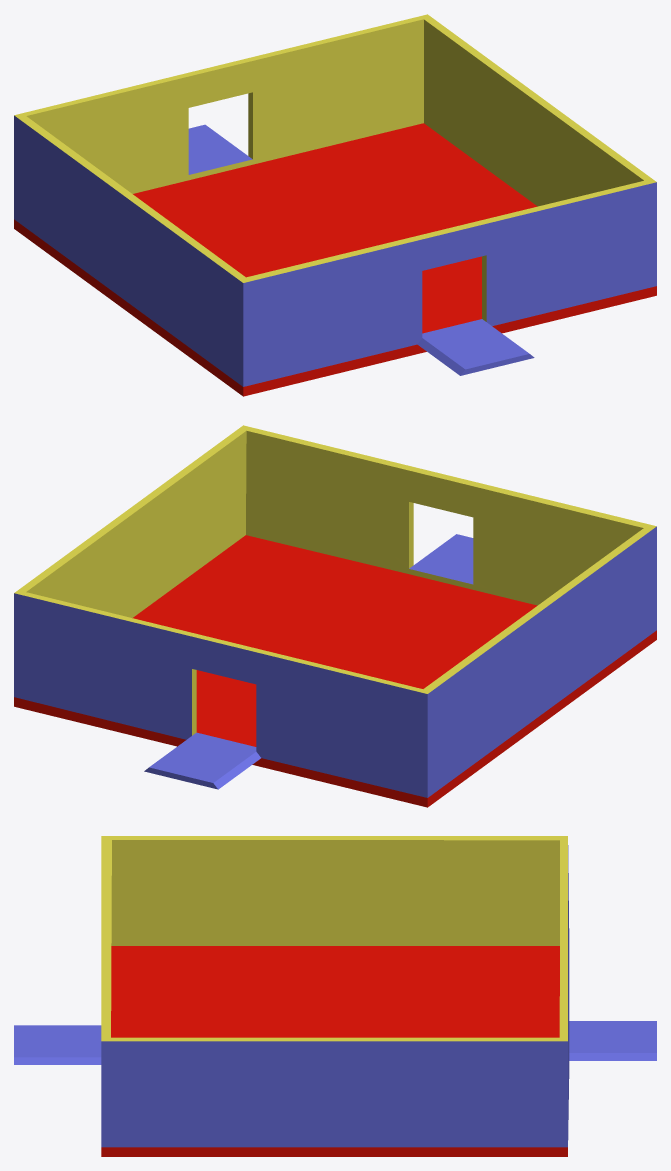
Rendered from level 2 room.fbx.
3 views of the same model, one above another, from view 1: azimuth 30°, elevation 25°; view 2: azimuth 150°, elevation 25°; view 3: azimuth 270°, elevation 25° (orthographic).
Parts seen in each view (by area): view 1: Cube.004; view 2: Cube.004; view 3: Cube.004.
Part boxes in pixels (bbox=[...]): Cube.004: bbox=[14, 14, 656, 396]; Cube.004: bbox=[14, 425, 656, 807]; Cube.004: bbox=[14, 836, 656, 1156].
Size of the model in its own units: 2083 by 546 by 2756.
